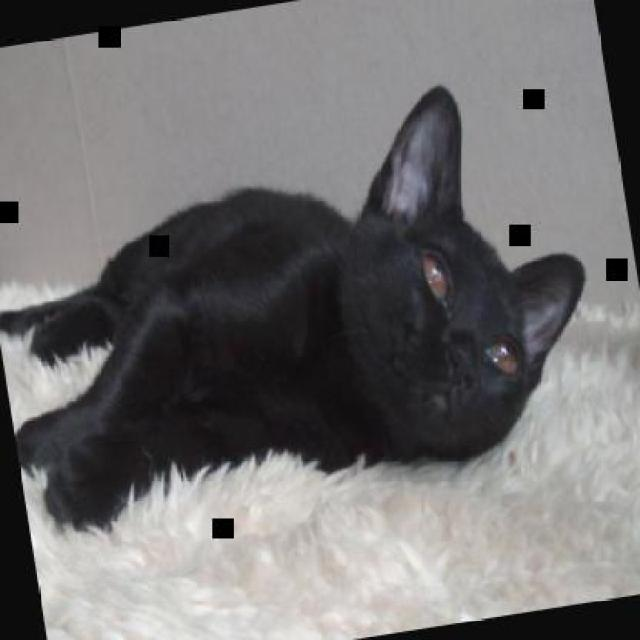cat: (0, 66, 615, 540)
